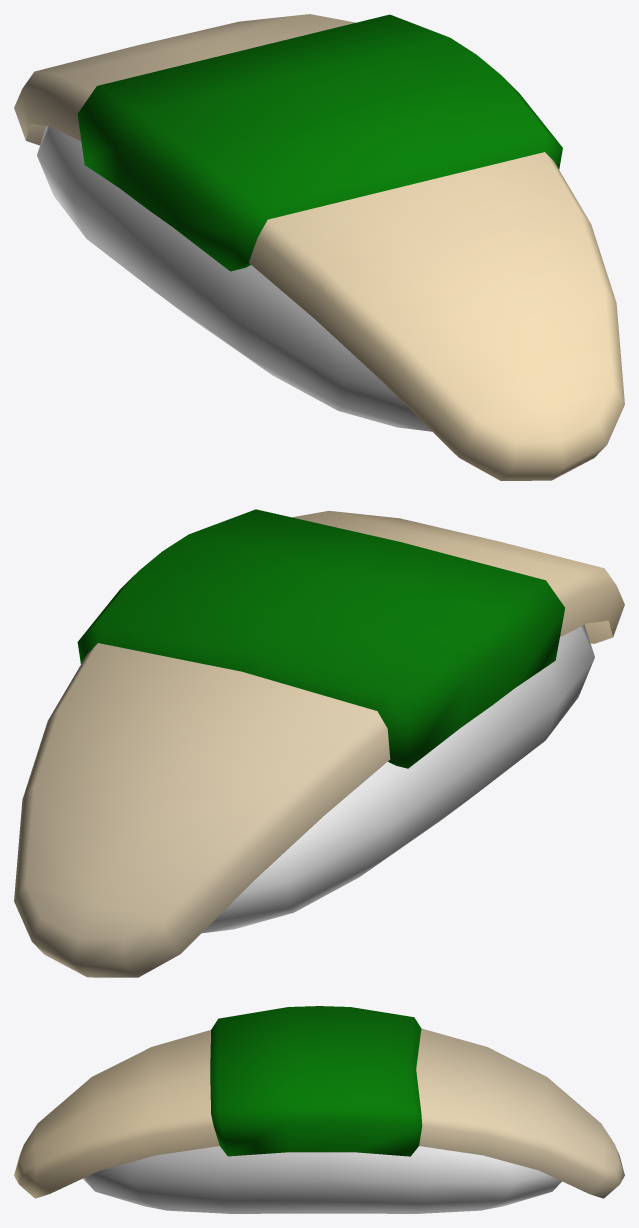
The model's file is Sushi Food_10.fbx.
The picture shows the model from 3 angles, top to bottom: view 1: azimuth 30°, elevation 25°; view 2: azimuth 150°, elevation 25°; view 3: azimuth 270°, elevation 25°; orthographic projection. The views are drawn at different scales.
Parts seen in each view (by area): view 1: Sushi Food_10; view 2: Sushi Food_10; view 3: Sushi Food_10.
Part boxes in pixels (box(x1,y1,x2,y2)): Sushi Food_10: box(14, 14, 624, 480); Sushi Food_10: box(14, 509, 624, 977); Sushi Food_10: box(14, 1006, 624, 1213).
Size of the model in its own units: 0.0464 by 0.0291 by 0.1116.
